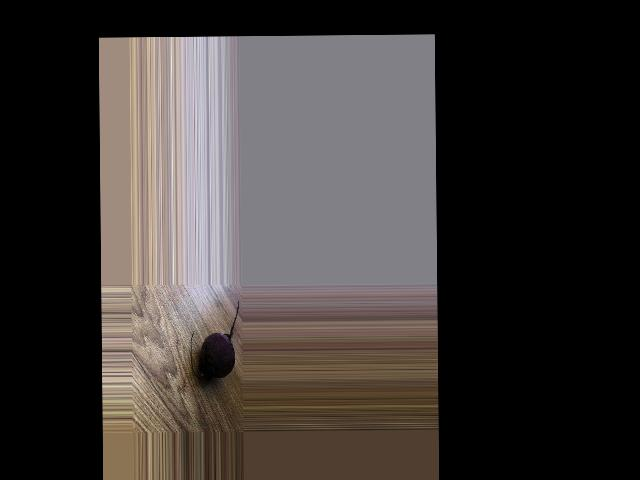beet: (190, 300, 239, 380)
